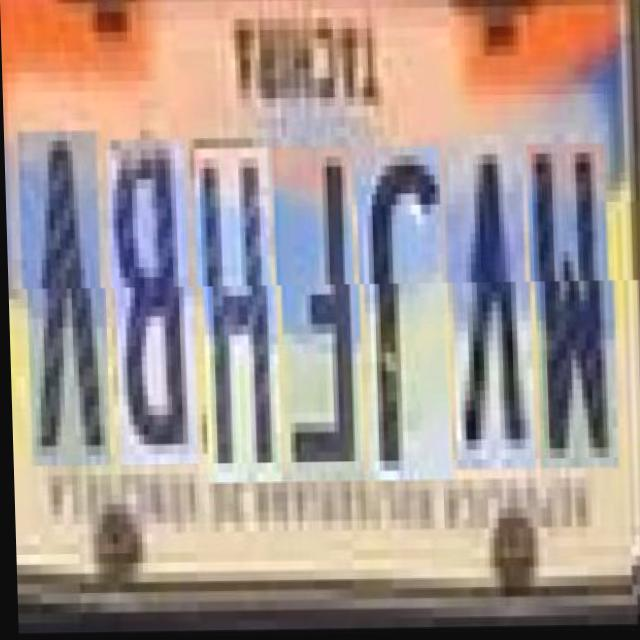b: (105, 140, 191, 466)
f: (271, 147, 357, 483)
h: (194, 148, 274, 484)
j: (354, 146, 446, 482)
m: (525, 145, 611, 470)
v: (442, 135, 528, 472), (17, 131, 103, 467)
